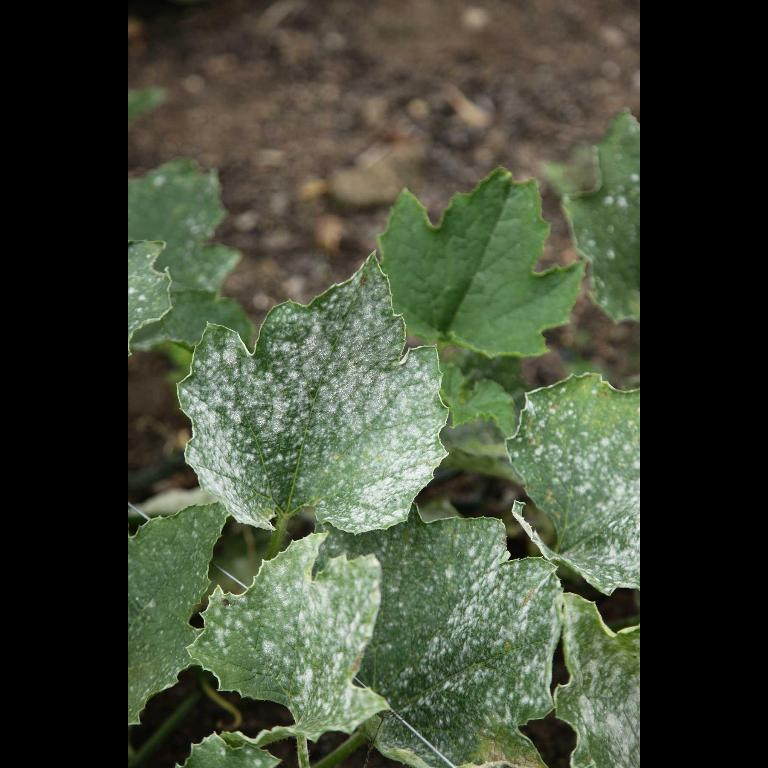powdery-mildew: (258, 354, 398, 502), (260, 587, 352, 673)
